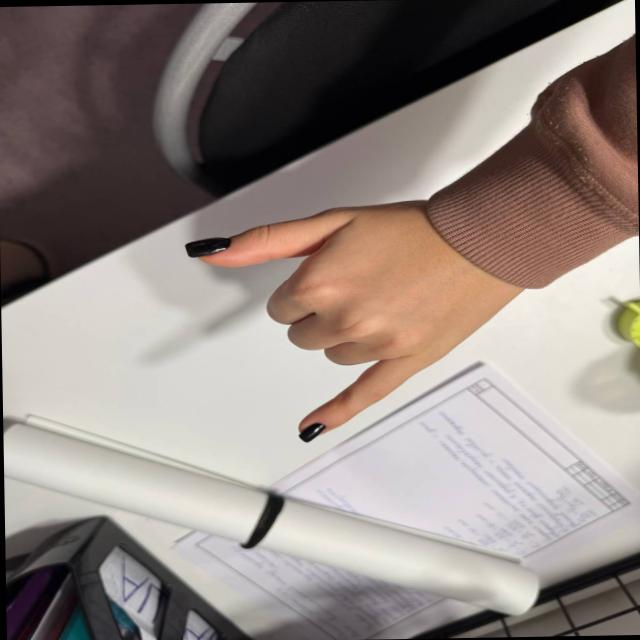u: (171, 192, 509, 449)
